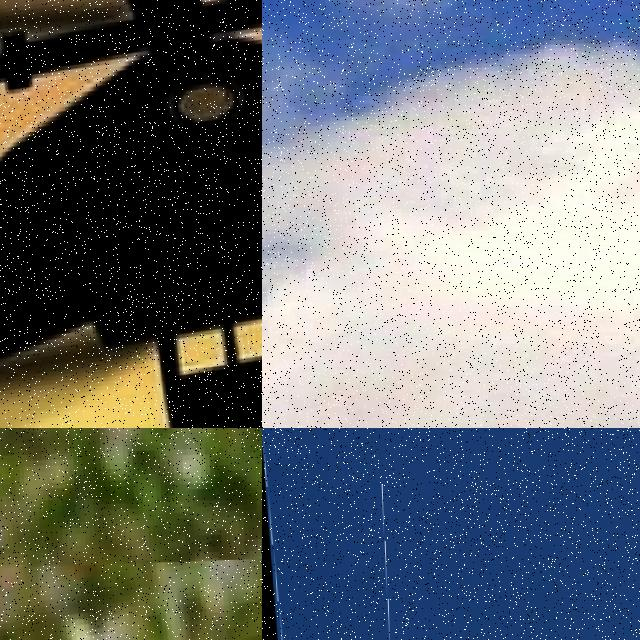drone: (0, 0, 262, 428), (262, 428, 390, 640), (0, 549, 262, 640)
